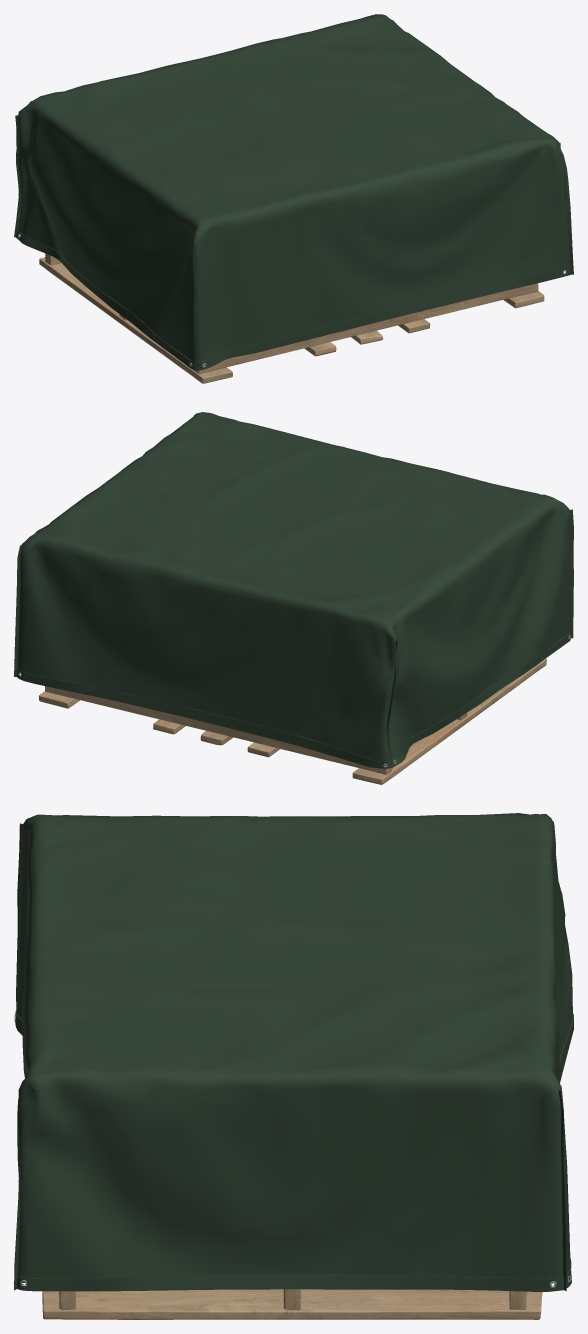
The model's file is pallet_load_wrapped.glb.
The picture shows the model from 3 angles, top to bottom: view 1: azimuth 30°, elevation 25°; view 2: azimuth 150°, elevation 25°; view 3: azimuth 270°, elevation 25°; orthographic projection. The views are drawn at different scales.
Visible parts, largest first — view 1: pallet_load_wrapped_mesh; view 2: pallet_load_wrapped_mesh; view 3: pallet_load_wrapped_mesh.
Boxes of the visible parts, x1,y1,x2,y2 form: pallet_load_wrapped_mesh: (14,14,573,383); pallet_load_wrapped_mesh: (14,412,573,784); pallet_load_wrapped_mesh: (14,813,573,1319).
Size of the model in its own units: 1.33 by 0.5588 by 1.11.
Materials: 5 (3 with a texture image).
